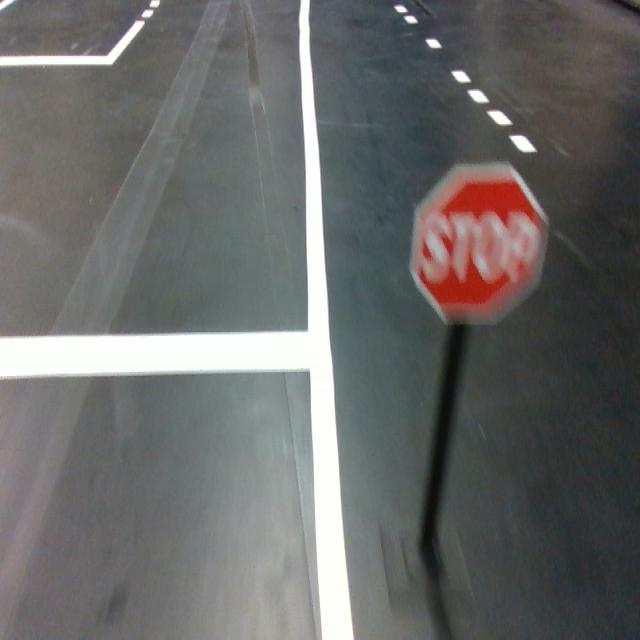stop-sign: (408, 162, 549, 328)
